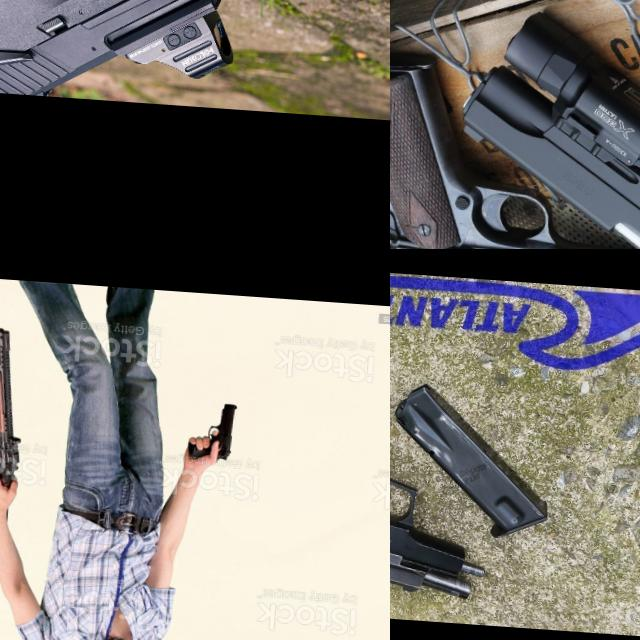handgun: (0, 0, 361, 147), (390, 41, 640, 249), (439, 0, 640, 249), (390, 342, 555, 604), (181, 396, 240, 467)
